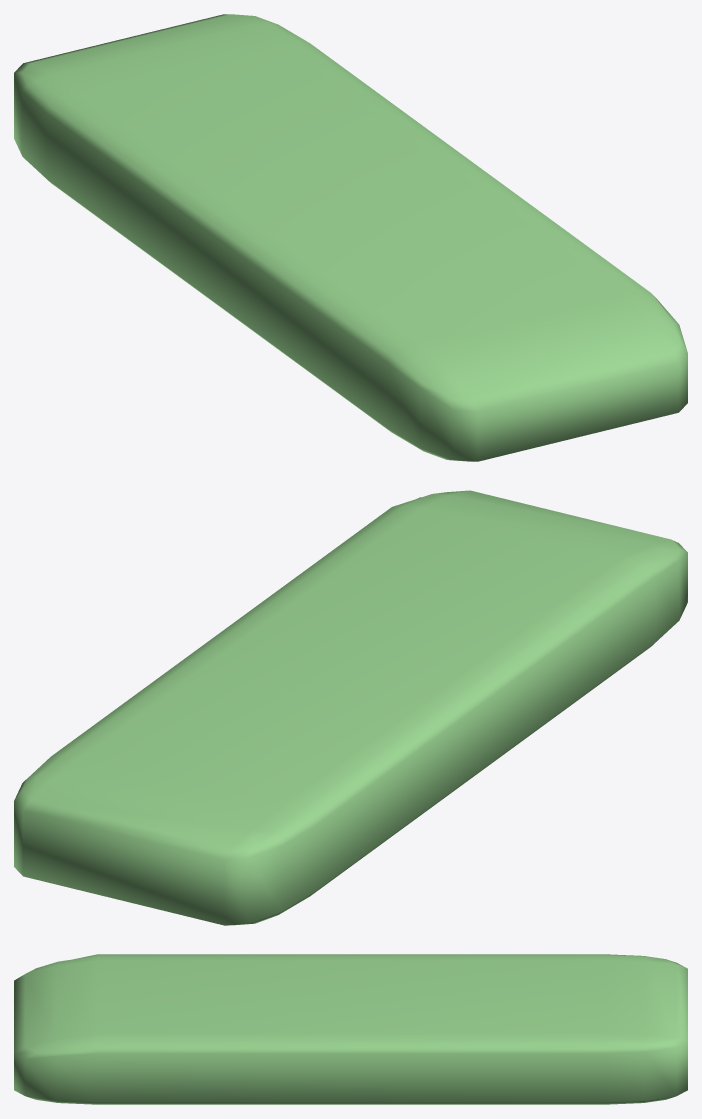
The model's file is chair_arm_side_top.fbx.
3 renders of one model, top to bottom at view 1: azimuth 30°, elevation 25°; view 2: azimuth 150°, elevation 25°; view 3: azimuth 270°, elevation 25°, orthographic. The views are drawn at different scales.
Visible parts, largest first — view 1: arm_side_top; view 2: arm_side_top; view 3: arm_side_top.
Boxes of the visible parts, x1,y1,x2,y2 form: arm_side_top: [14, 14, 687, 461]; arm_side_top: [14, 490, 687, 925]; arm_side_top: [14, 954, 687, 1104].
Bounding box in the file's own units: 16 × 5 × 47.
